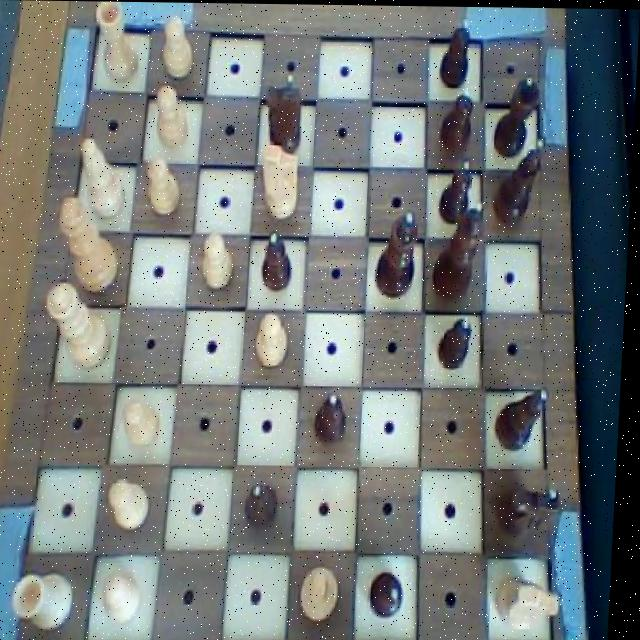bishop: (492, 133, 549, 231), (497, 381, 554, 455)
black-bishop: (431, 198, 490, 305)
black-king: (496, 478, 572, 548), (262, 71, 311, 156)
black-knight: (435, 11, 474, 92), (437, 84, 479, 155), (314, 384, 359, 450), (244, 472, 291, 533), (367, 566, 417, 622), (439, 151, 477, 223), (260, 228, 299, 293), (437, 314, 478, 372)
black-pawn: (374, 206, 425, 300)
black-queen: (491, 67, 543, 161)
black-rook: (76, 135, 135, 221), (302, 561, 351, 627)
white-bishop: (53, 193, 127, 295)
white-king: (255, 135, 313, 227), (499, 569, 573, 636)
white-knight: (149, 80, 196, 153), (101, 563, 152, 628), (157, 9, 201, 83), (111, 474, 159, 535), (251, 308, 298, 370), (145, 151, 187, 220), (120, 397, 169, 454), (202, 221, 240, 290)
white-pawn: (43, 276, 120, 374)
white-queen: (11, 565, 83, 634), (92, 1, 146, 85)
